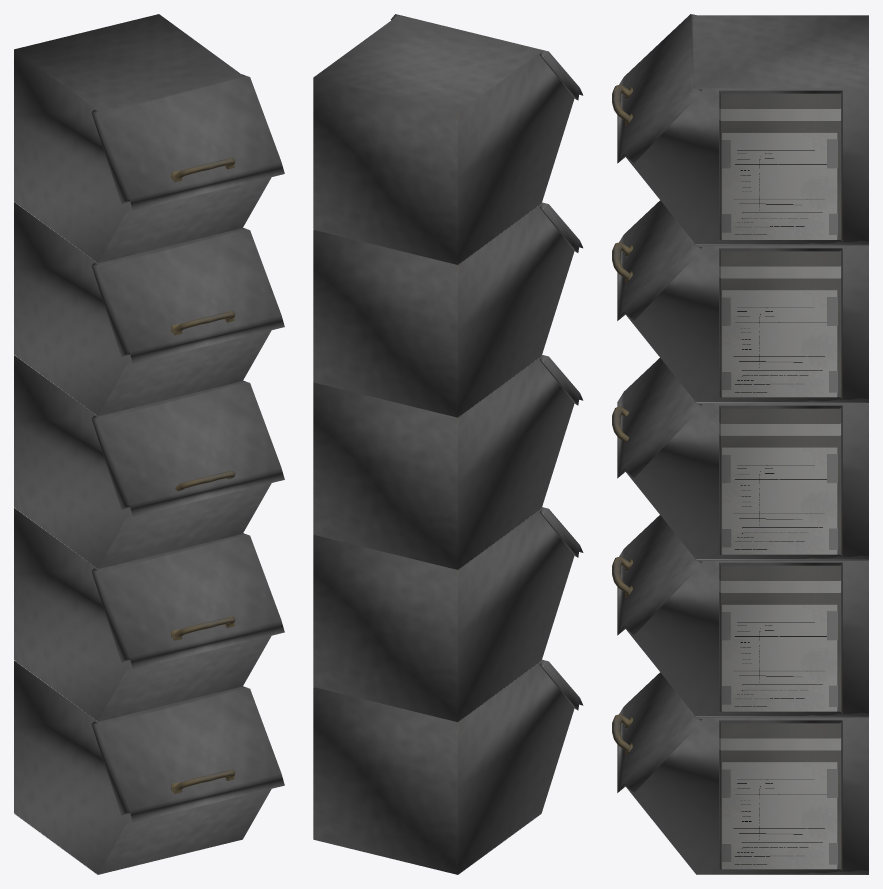
File: LaundryCompartmentSTACK.obj
3 views of the same model, side by side, from view 1: azimuth 30°, elevation 25°; view 2: azimuth 150°, elevation 25°; view 3: azimuth 270°, elevation 25° (orthographic). The views are drawn at different scales.
Visible parts, largest first — view 1: LaundryCompartmentSTACK.obj; view 2: LaundryCompartmentSTACK.obj; view 3: LaundryCompartmentSTACK.obj.
Part boxes in pixels (bbox=[...]): LaundryCompartmentSTACK.obj: bbox=[14, 14, 284, 874]; LaundryCompartmentSTACK.obj: bbox=[313, 14, 583, 874]; LaundryCompartmentSTACK.obj: bbox=[612, 14, 868, 874].
Size of the model in its own units: 4.26 by 19.64 by 5.81.
